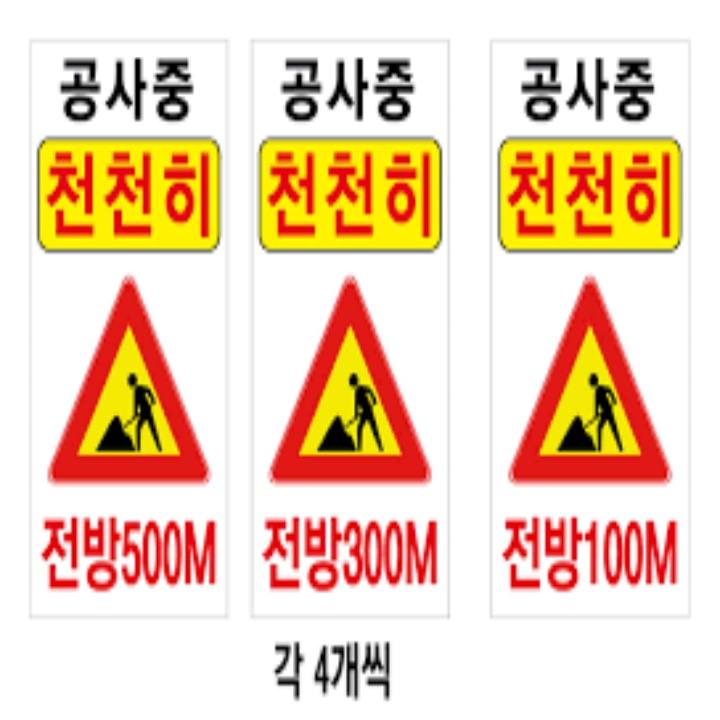const: (74, 364, 171, 456), (295, 357, 388, 451), (550, 365, 635, 454)
